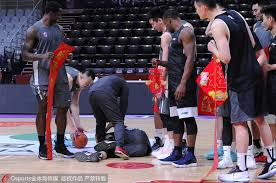fall: (72, 121, 154, 160)
